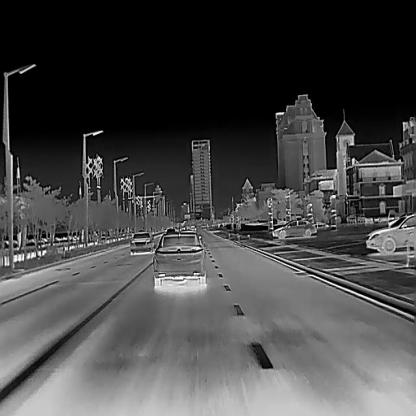car: (151, 231, 207, 286), (365, 213, 415, 254), (271, 217, 318, 239), (129, 231, 153, 254), (190, 222, 195, 232)
